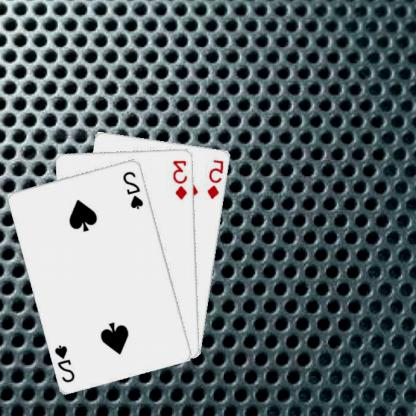2S: (53, 341, 78, 384), (122, 168, 146, 210)
3D: (172, 157, 190, 201)
5D: (206, 157, 227, 200)
